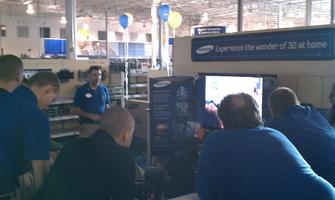person: (197, 91, 333, 199)
